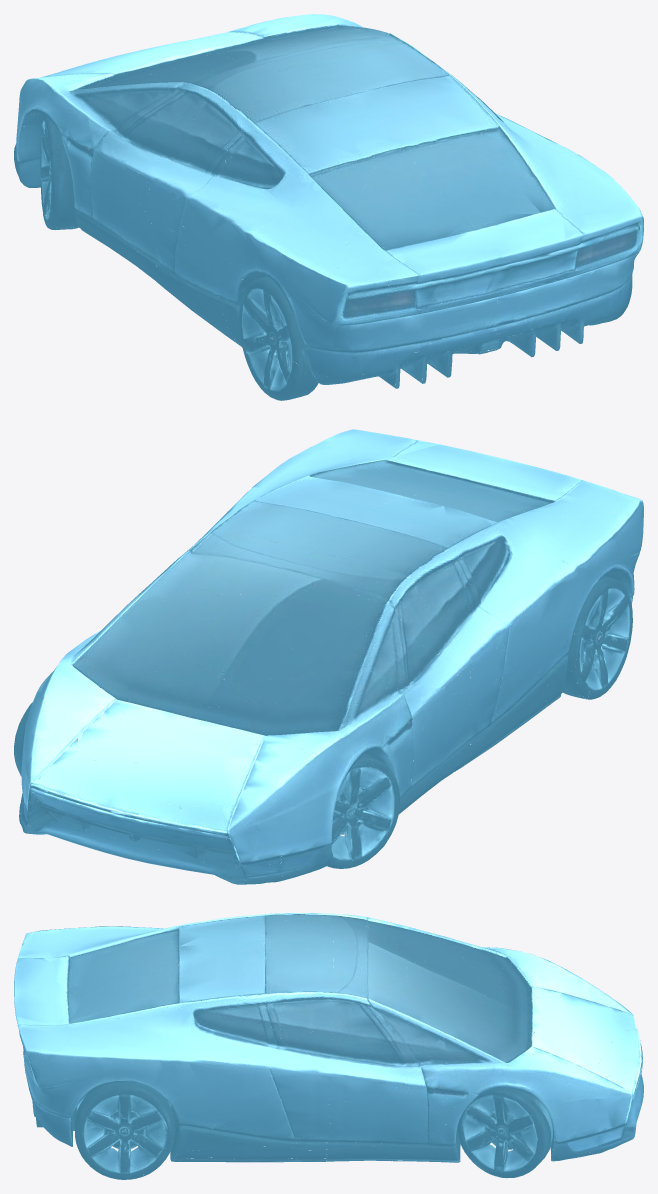
The model's file is roadsterRushSkyCar.glb.
3 renders of one model, top to bottom at view 1: azimuth 30°, elevation 25°; view 2: azimuth 150°, elevation 25°; view 3: azimuth 270°, elevation 25°, orthographic. The views are drawn at different scales.
Parts seen in each view (by area): view 1: tripo_node_a3d89100-53b6-4e1c-afd6-ac07352b5506; view 2: tripo_node_a3d89100-53b6-4e1c-afd6-ac07352b5506; view 3: tripo_node_a3d89100-53b6-4e1c-afd6-ac07352b5506.
Part boxes in pixels (<box>): tripo_node_a3d89100-53b6-4e1c-afd6-ac07352b5506: <box>14,14,643,400</box>; tripo_node_a3d89100-53b6-4e1c-afd6-ac07352b5506: <box>14,429,643,884</box>; tripo_node_a3d89100-53b6-4e1c-afd6-ac07352b5506: <box>14,913,643,1179</box>.
Size of the model in its own units: 2.23 by 1.27 by 4.3.
Materials: 1 (1 with a texture image).
